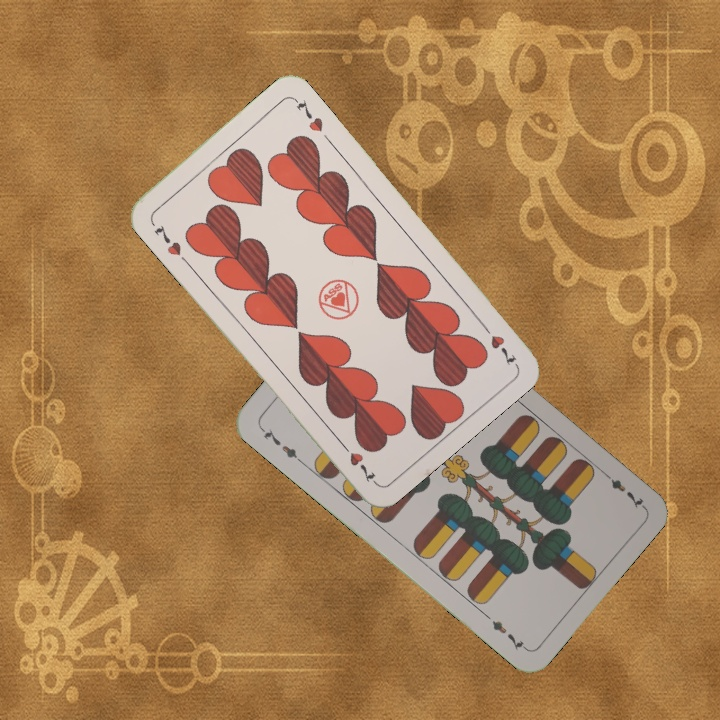E7: (598, 467, 647, 512), (256, 423, 305, 466)
H7: (476, 318, 519, 368), (150, 220, 184, 258)
